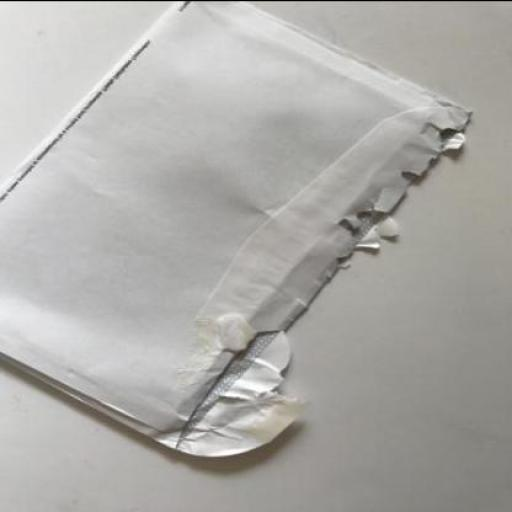paper: (0, 2, 473, 456)
